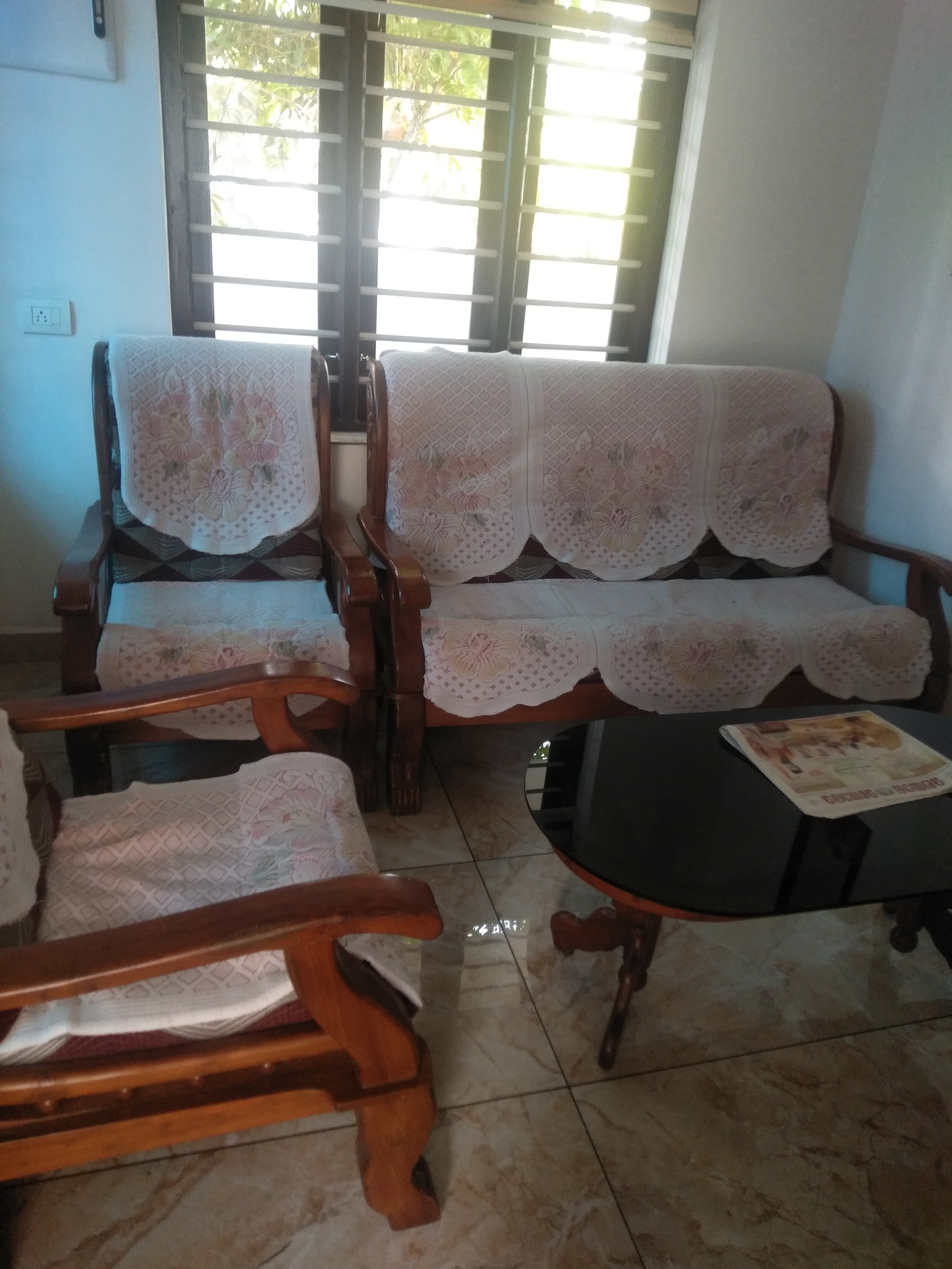sofa: (358, 351, 952, 812), (0, 660, 445, 1227), (47, 335, 380, 820)
table: (526, 703, 952, 1072)
